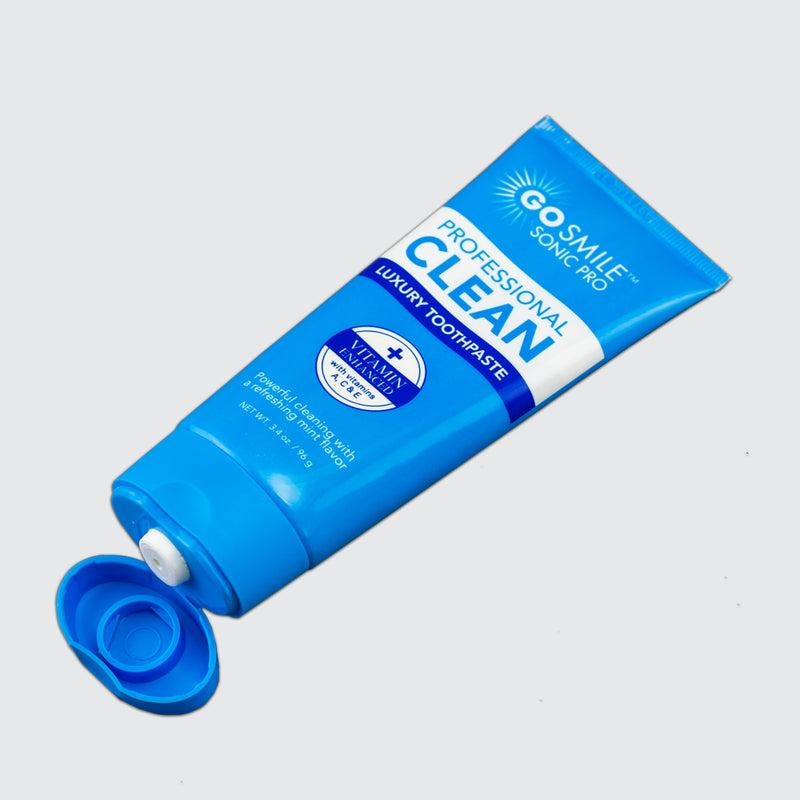toothpaste: (96, 89, 756, 633)
